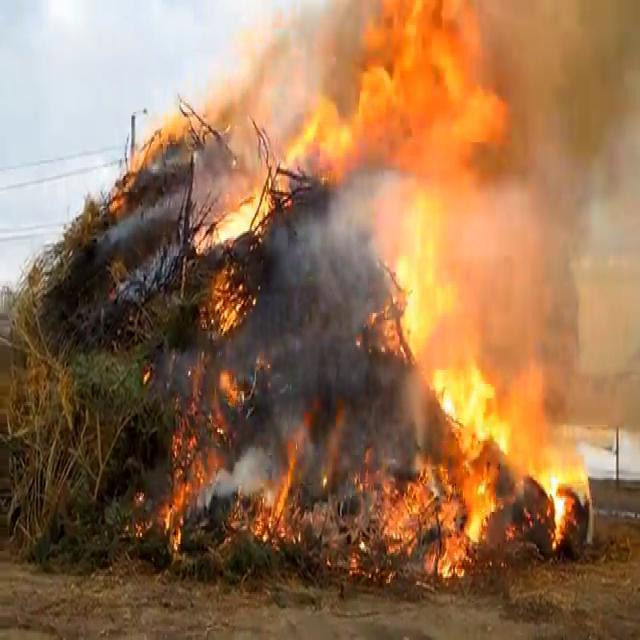fire: (416, 1, 510, 105), (336, 0, 416, 106), (418, 115, 506, 209), (422, 218, 503, 312), (344, 94, 412, 192), (508, 3, 558, 110), (428, 323, 503, 388), (496, 347, 550, 410), (310, 97, 350, 166), (394, 261, 421, 324), (492, 402, 528, 447), (451, 376, 487, 419), (465, 474, 488, 534), (522, 428, 551, 472), (552, 442, 577, 488), (218, 207, 252, 240), (443, 538, 463, 573)
smoke: (584, 82, 636, 192), (598, 1, 638, 92), (303, 222, 337, 286), (268, 69, 304, 124), (327, 208, 362, 260), (322, 313, 351, 368), (336, 258, 364, 312), (198, 152, 226, 196), (236, 457, 262, 488), (212, 466, 232, 498)
